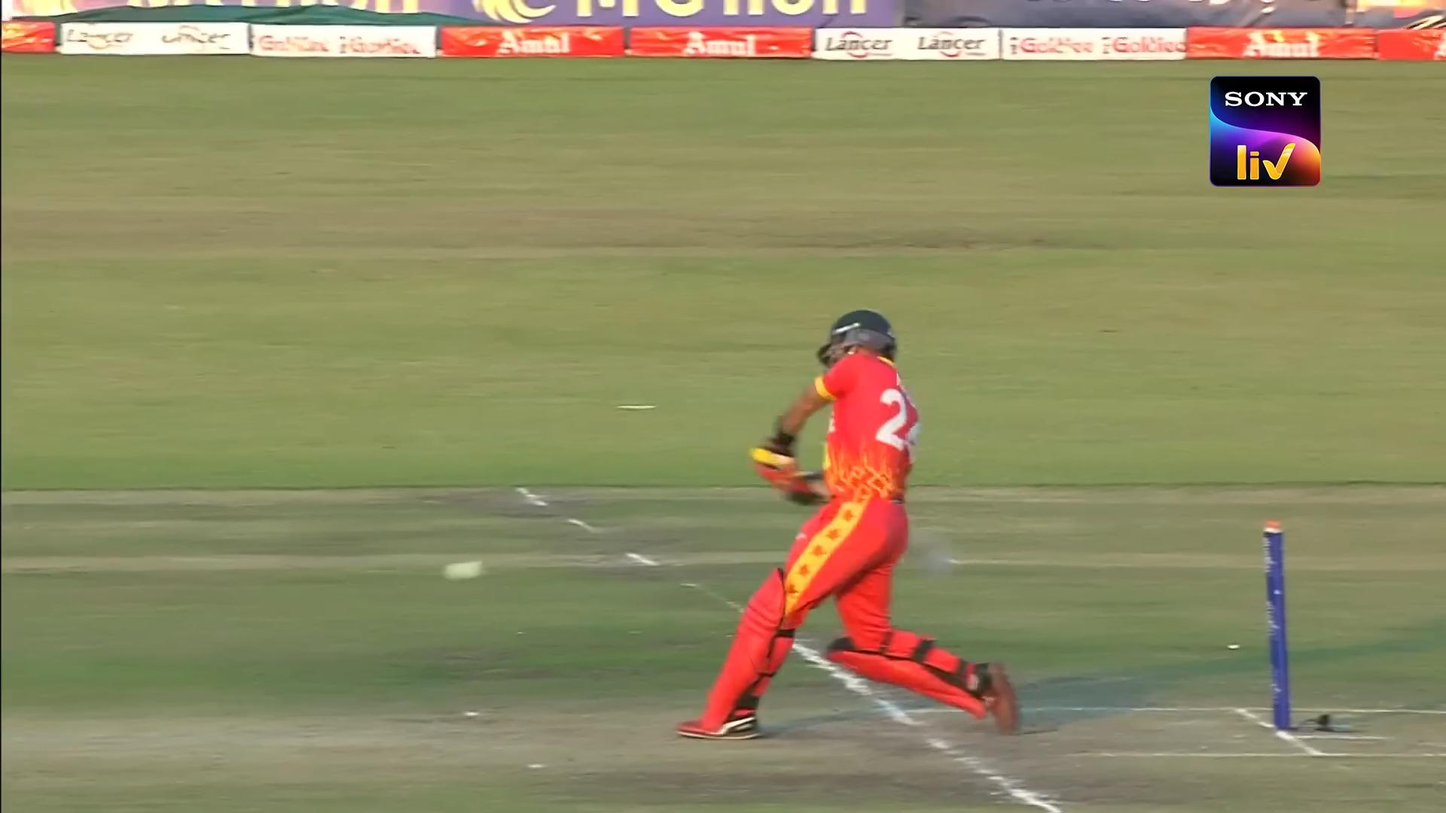batsman: (676, 307, 1020, 739)
